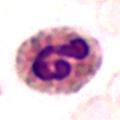neutrophil: (14, 23, 103, 96)
